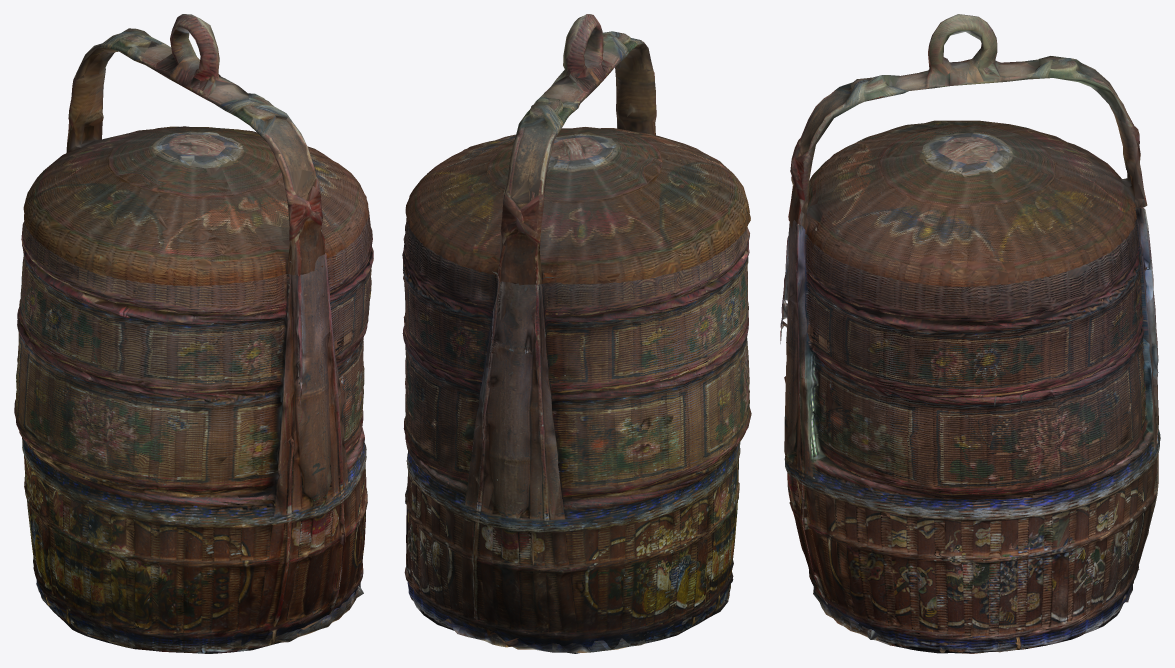
File: 3_antique_chinese_basket_3_tier.glb
The picture shows the model from 3 angles, left to right: view 1: azimuth 30°, elevation 25°; view 2: azimuth 150°, elevation 25°; view 3: azimuth 270°, elevation 25°; orthographic projection.
Parts seen in each view (by area): view 1: Basket Middle, Basket Top, Base; view 2: Basket Middle, Basket Top, Base; view 3: Basket Middle, Basket Top, Base.
Boxes of the visible parts, box(x1,y1,x2,y2) form: Basket Middle: box(14, 207, 373, 653); Basket Top: box(23, 14, 368, 286); Base: box(41, 585, 363, 650); Basket Middle: box(402, 218, 751, 653); Basket Top: box(405, 14, 750, 285); Base: box(423, 586, 727, 652); Basket Middle: box(780, 207, 1160, 653); Basket Top: box(788, 14, 1147, 286); Base: box(813, 569, 1139, 653).
Size of the model in its own units: 0.6036 by 1.08 by 0.6509.
3 materials, 3 textured.
